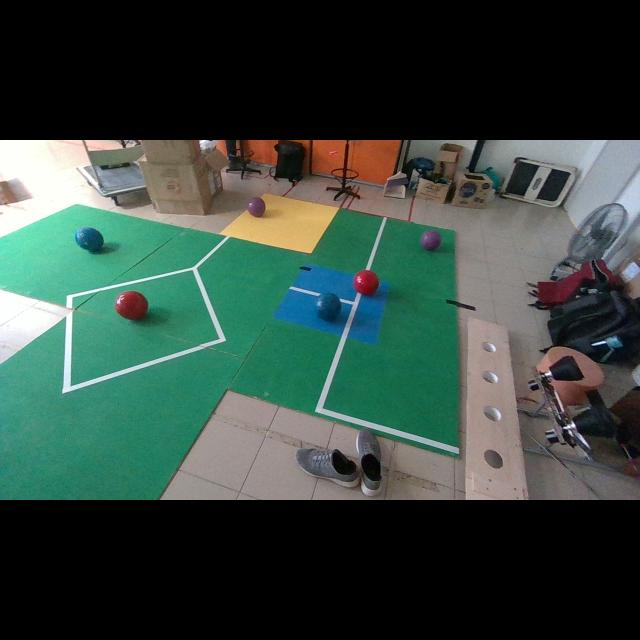B: (315, 292, 341, 321), (75, 228, 104, 252)
P: (421, 230, 441, 250), (248, 198, 265, 218)
R: (115, 291, 148, 319), (352, 270, 379, 295)
